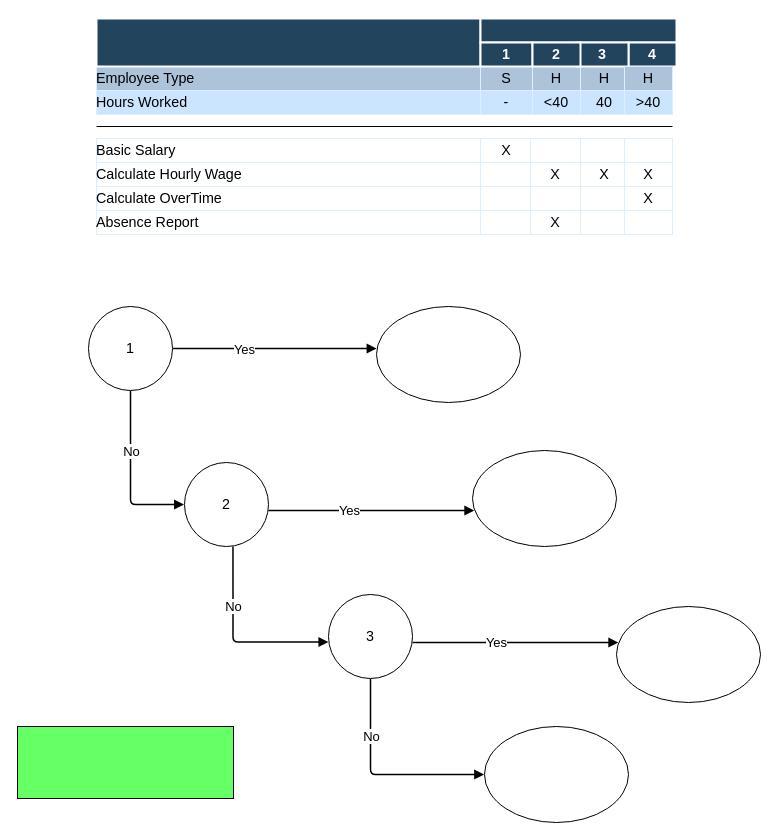
The diagram is 778 pixels wide and 840 high, and some of its shapes have lost their labels. Here are the shapes that lost their labels. From the top down, the box of each, then its label:
(95, 17, 481, 67): Conditions
(479, 17, 677, 43): Rules
(376, 306, 520, 402): Pay Basic Salary
(472, 450, 616, 546): Pay Hourly Wages; Absence Report
(616, 606, 760, 702): Pay Hourly Wages
(16, 726, 234, 798): 1 -> Basic Salary 2 -> Hours Worked < 40 ? 3-> Hours Worked = 40 ?
(484, 726, 628, 822): Pay Hourly Wages; Pay Over Time
